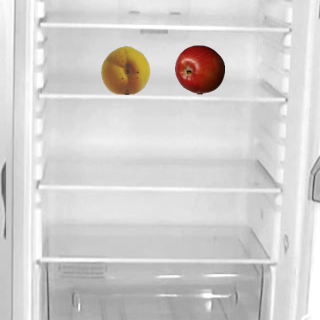Apple Braeburn: (174, 44, 224, 94)
Peach 2: (100, 44, 150, 94)
